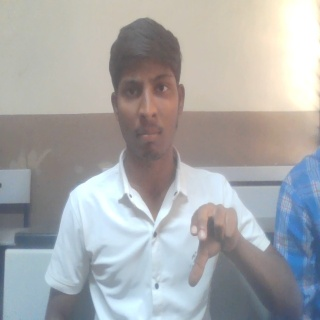Face: (106, 16, 188, 167)
No: (186, 201, 240, 291)
